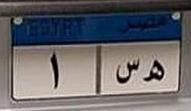1: (47, 50, 61, 90)
haa: (142, 56, 166, 88)
seen: (113, 56, 142, 90)
